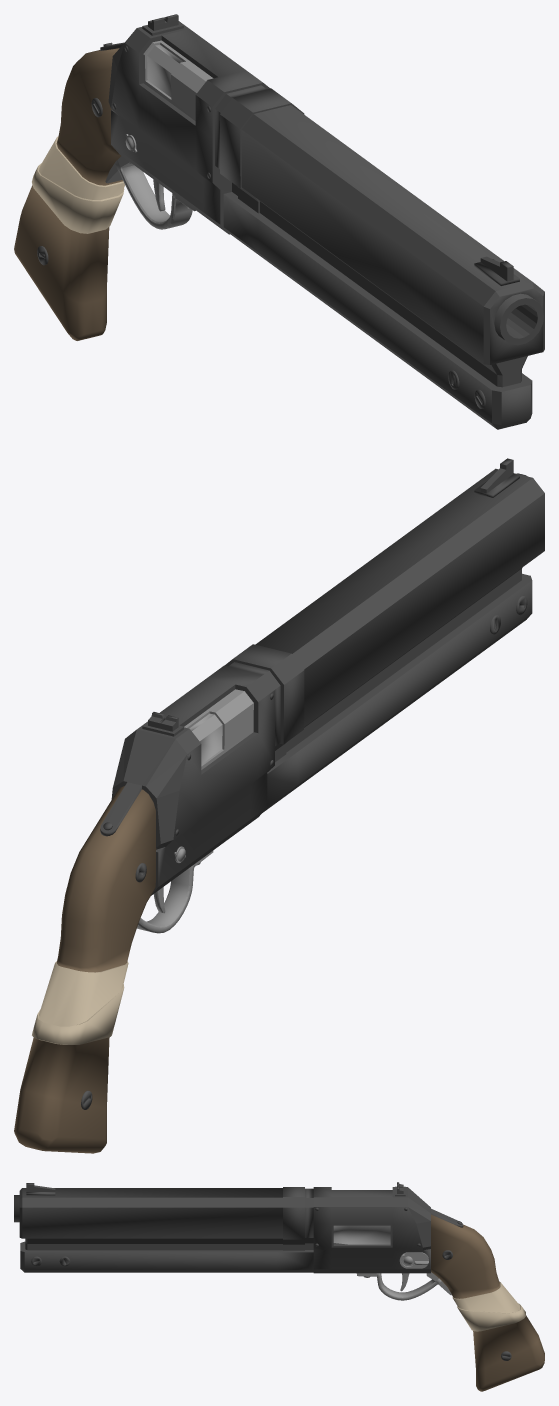
The picture shows the model from 3 angles, top to bottom: view 1: azimuth 30°, elevation 25°; view 2: azimuth 150°, elevation 25°; view 3: azimuth 270°, elevation 25°; orthographic projection. The views are drawn at different scales.
Visible parts, largest first — view 1: body, Stock, trigger_guard, Barrel, front_sight; view 2: body, Stock, trigger_guard, front_sight; view 3: body, Stock, trigger_guard, catch, front_sight.
Part boxes in pixels (x1,y1,x2,y2): body: (100, 14, 544, 429); Stock: (14, 48, 124, 340); trigger_guard: (105, 156, 195, 229); Barrel: (494, 293, 543, 345); front_sight: (474, 256, 519, 285); body: (100, 468, 544, 895); Stock: (14, 786, 156, 1153); trigger_guard: (137, 851, 213, 933); front_sight: (474, 458, 519, 497); body: (19, 1182, 463, 1273); Stock: (431, 1214, 544, 1391); trigger_guard: (356, 1272, 451, 1300); catch: (399, 1252, 428, 1268); front_sight: (26, 1183, 55, 1195).
Size of the model in its own units: 20.13 by 113 by 264.
